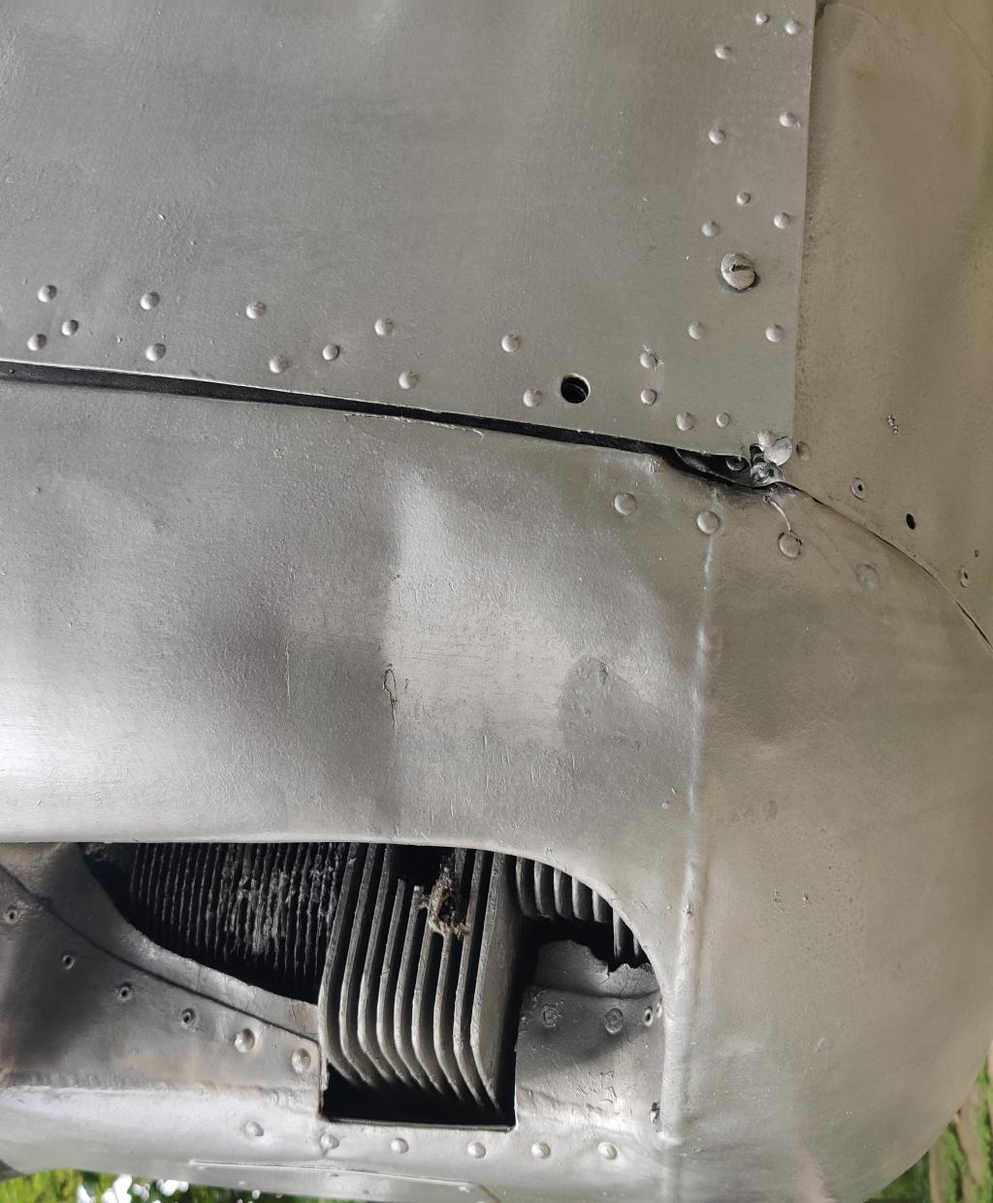dent: (304, 257, 619, 858)
